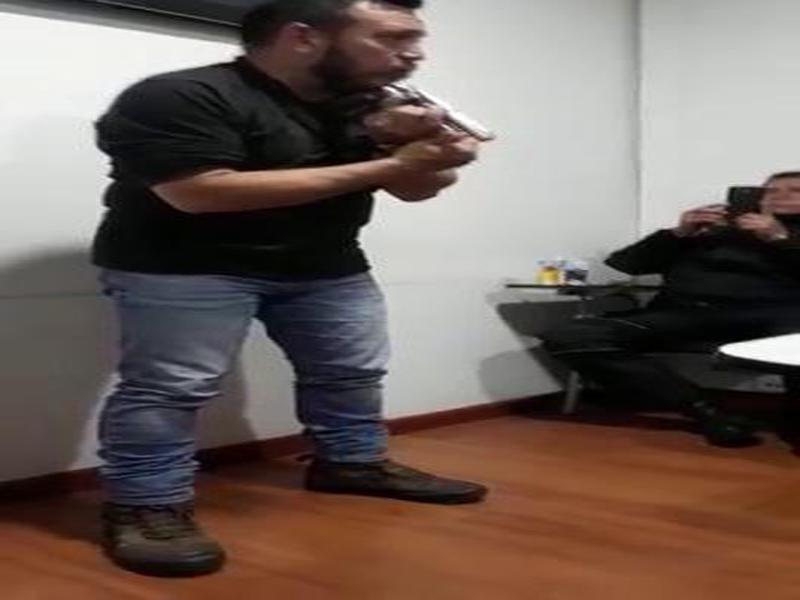Revolver: (341, 64, 510, 169)
